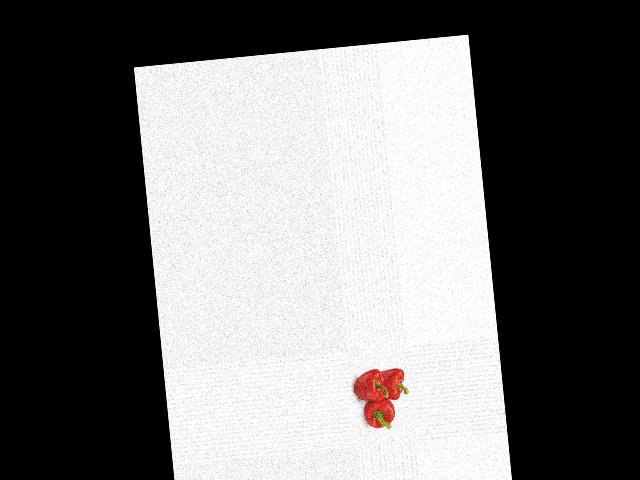bell_pepper: (360, 394, 400, 433)
